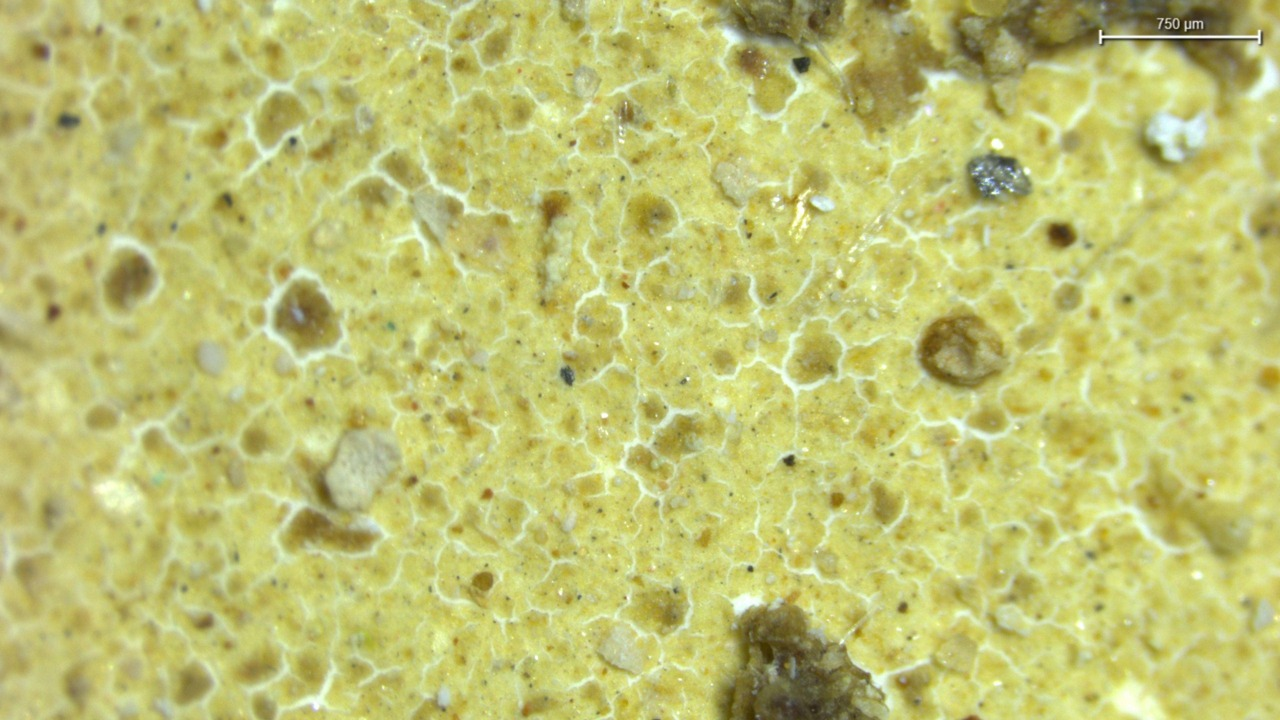microplastic_fragment: (324, 429, 401, 511), (1145, 112, 1208, 163), (967, 154, 1031, 198)
